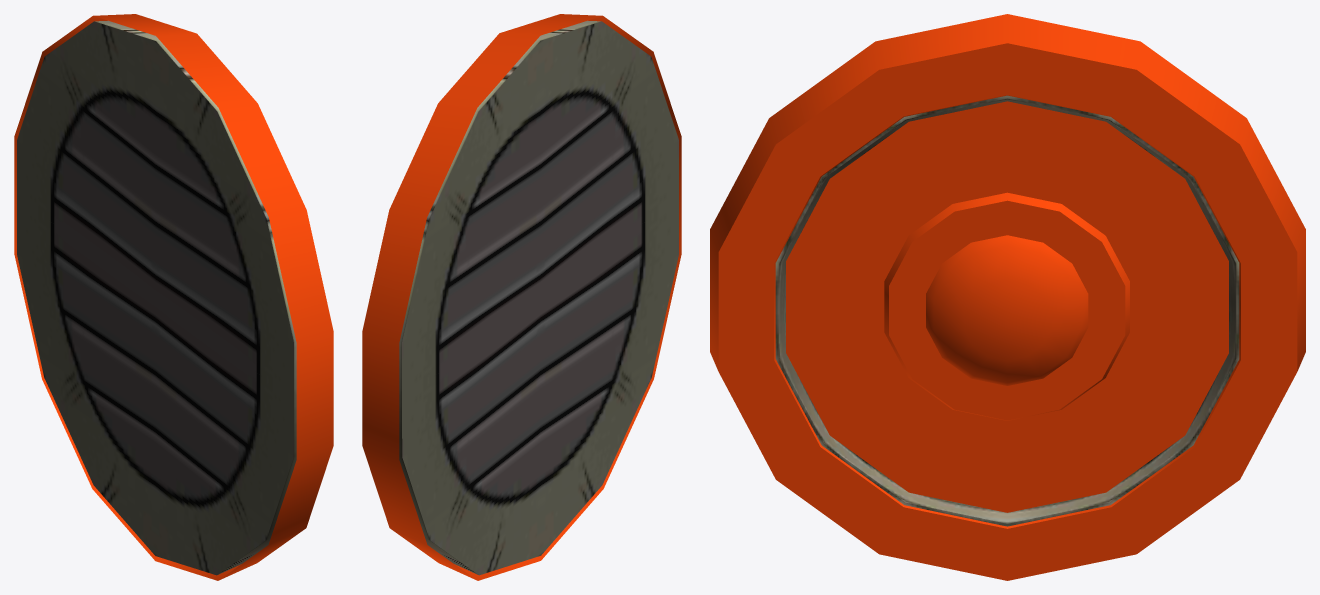
Rendered from 17_dun.fbx.
3 renders of one model, left to right at view 1: azimuth 30°, elevation 25°; view 2: azimuth 150°, elevation 25°; view 3: azimuth 270°, elevation 25°, orthographic. The views are drawn at different scales.
Parts seen in each view (by area): view 1: brogy001_body_d001, buff_dunpai_shanmian; view 2: brogy001_body_d001, buff_dunpai_shanmian; view 3: buff_dunpai_shanmian, brogy001_body_d001.
Boxes of the visible parts, bbox=[...] form: brogy001_body_d001: bbox=[17, 20, 296, 575]; buff_dunpai_shanmian: bbox=[14, 14, 333, 580]; brogy001_body_d001: bbox=[399, 20, 678, 575]; buff_dunpai_shanmian: bbox=[362, 14, 681, 580]; buff_dunpai_shanmian: bbox=[710, 14, 1305, 580]; brogy001_body_d001: bbox=[775, 95, 1239, 526].
Size of the model in its own units: 0.1058 by 0.8256 by 0.8049.
